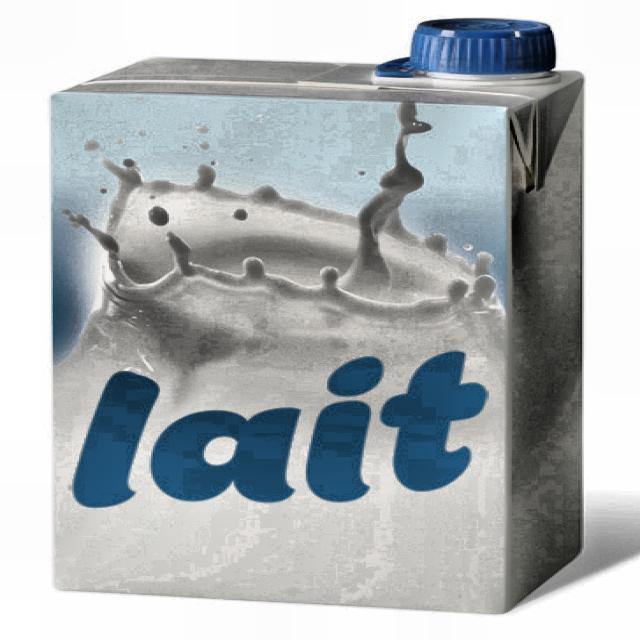cardboard: (49, 54, 584, 614)
